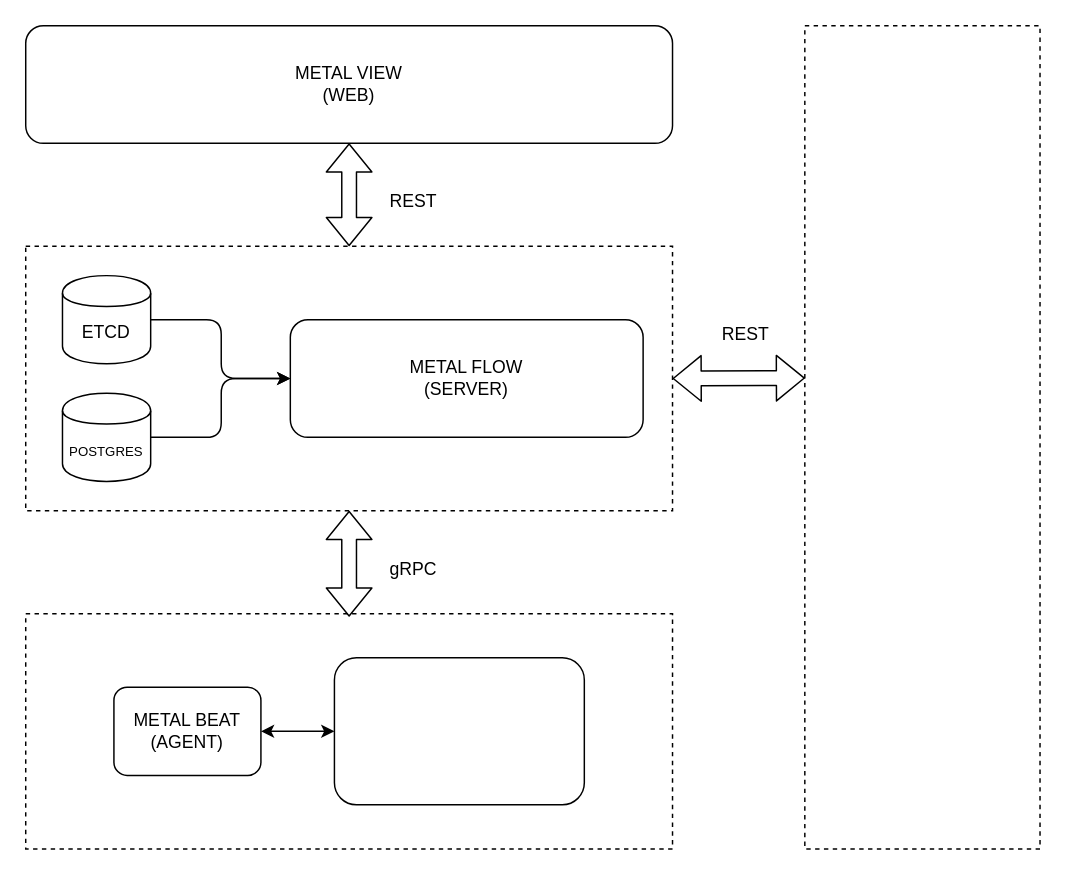
The diagram is 1066 pixels wide and 875 high, and some of its shapes have lost their labels. The shapes that lost their labels are listed below. From the top down, each one's centre as x and y in pixels, then its label:
the point at 921,436: DEVSECOPS
the point at 458,730: METAL METRICS (METRICS)
